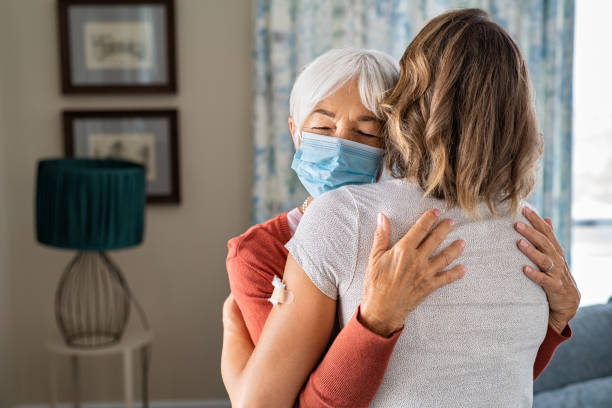with mask: (291, 75, 389, 202)
